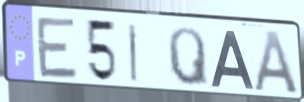5: (82, 16, 119, 84)
A: (251, 29, 301, 97), (209, 28, 256, 92)
E: (34, 14, 81, 82)
I: (126, 21, 139, 84)
Q: (165, 25, 211, 89)
